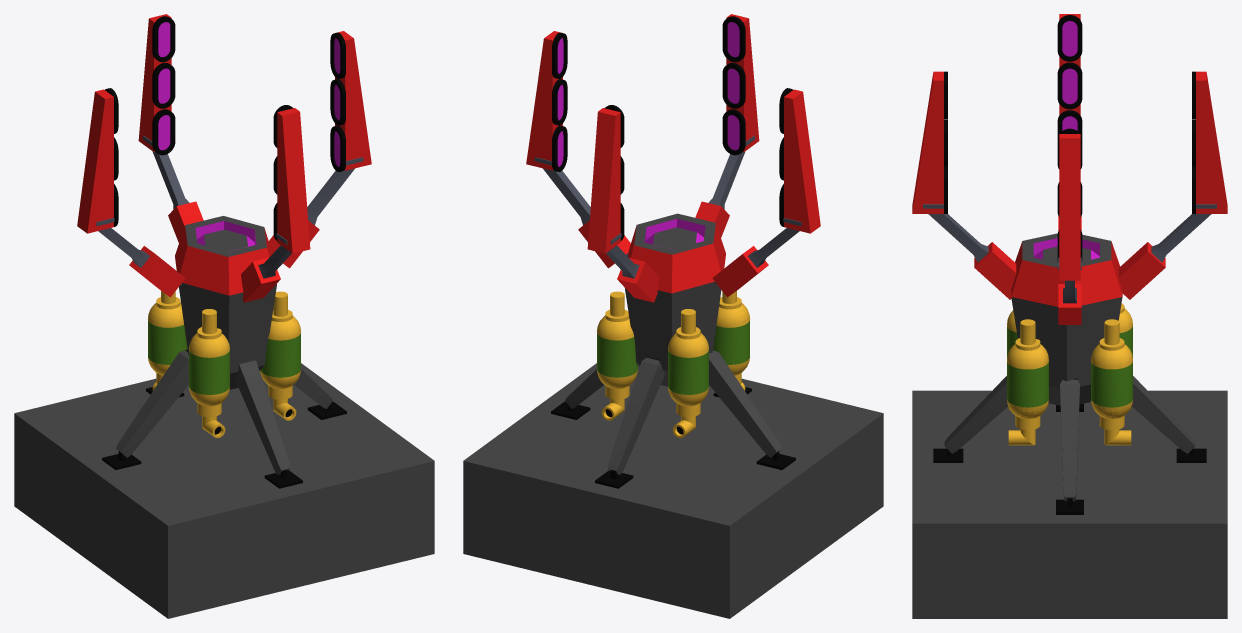
The model's file is shieldgen.fbx.
3 renders of one model, left to right at view 1: azimuth 30°, elevation 25°; view 2: azimuth 150°, elevation 25°; view 3: azimuth 270°, elevation 25°, orthographic. The views are drawn at different scales.
Visible parts, largest first — view 1: block_default_19, engine_airplane%_9, wing_endLong_17, wing_endLong_15, landing_craft%_0, landing_craft%_4, wing_endLong_16, landing_telescope%_11, landing_telescope%_13, landing_telescope%_12, cylinder_full_20, wing_endLong_18 (+15 smaller); view 2: block_default_19, engine_airplane%_9, wing_endLong_18, wing_endLong_15, landing_craft%_2, landing_craft%_0, wing_endLong_16, landing_telescope%_11, landing_telescope%_13, cylinder_full_30, wing_endLong_17, cylinder_full_27 (+15 smaller); view 3: block_default_19, engine_airplane%_9, wing_endLong_16, wing_endLong_17, wing_endLong_18, landing_telescope%_13, landing_craft%_3, landing_telescope%_12, landing_craft%_2, landing_craft%_4, cylinder_full_24, cylinder_full_27 (+8 smaller).
Boxes of the visible parts, <box> form: block_default_19: <box>14,363,434,618</box>; engine_airplane%_9: <box>175,216,276,389</box>; wing_endLong_17: <box>277,108,310,253</box>; wing_endLong_15: <box>77,89,113,233</box>; landing_craft%_0: <box>102,349,188,469</box>; landing_craft%_4: <box>235,360,302,488</box>; wing_endLong_16: <box>335,31,371,170</box>; landing_telescope%_11: <box>96,218,185,297</box>; landing_telescope%_13: <box>143,135,203,242</box>; landing_telescope%_12: <box>241,233,291,302</box>; cylinder_full_20: <box>189,350,229,394</box>; wing_endLong_18: <box>138,14,171,152</box>; block_default_19: <box>463,363,883,618</box>; engine_airplane%_9: <box>625,213,725,386</box>; wing_endLong_18: <box>587,108,620,253</box>; wing_endLong_15: <box>784,89,820,233</box>; landing_craft%_2: <box>595,357,664,488</box>; landing_craft%_0: <box>709,350,795,469</box>; wing_endLong_16: <box>526,31,562,170</box>; landing_telescope%_11: <box>712,218,801,297</box>; landing_telescope%_13: <box>606,233,659,302</box>; cylinder_full_30: <box>668,350,708,394</box>; wing_endLong_17: <box>726,14,759,152</box>; cylinder_full_27: <box>597,333,637,377</box>; block_default_19: <box>912,390,1227,618</box>; engine_airplane%_9: <box>1011,233,1122,405</box>; wing_endLong_16: <box>1059,134,1080,280</box>; wing_endLong_17: <box>912,71,943,213</box>; wing_endLong_18: <box>1196,71,1227,213</box>; landing_telescope%_13: <box>1118,204,1216,299</box>; landing_craft%_3: <box>1056,378,1083,514</box>; landing_telescope%_12: <box>923,204,1016,299</box>; landing_craft%_2: <box>1132,376,1206,462</box>; landing_craft%_4: <box>933,376,1007,462</box>; cylinder_full_24: <box>1007,361,1048,407</box>; cylinder_full_27: <box>1091,361,1132,407</box>.
Size of the model in its own units: 32 by 50.37 by 30.
